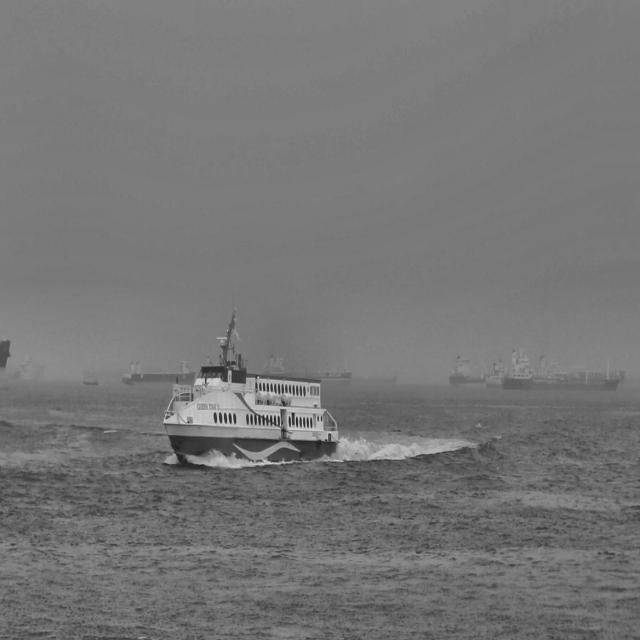ship: (160, 303, 342, 468), (501, 344, 621, 394), (257, 350, 353, 383), (120, 358, 198, 387), (448, 352, 486, 387), (8, 352, 44, 383), (483, 355, 506, 389), (1, 338, 12, 392), (81, 373, 101, 389)
